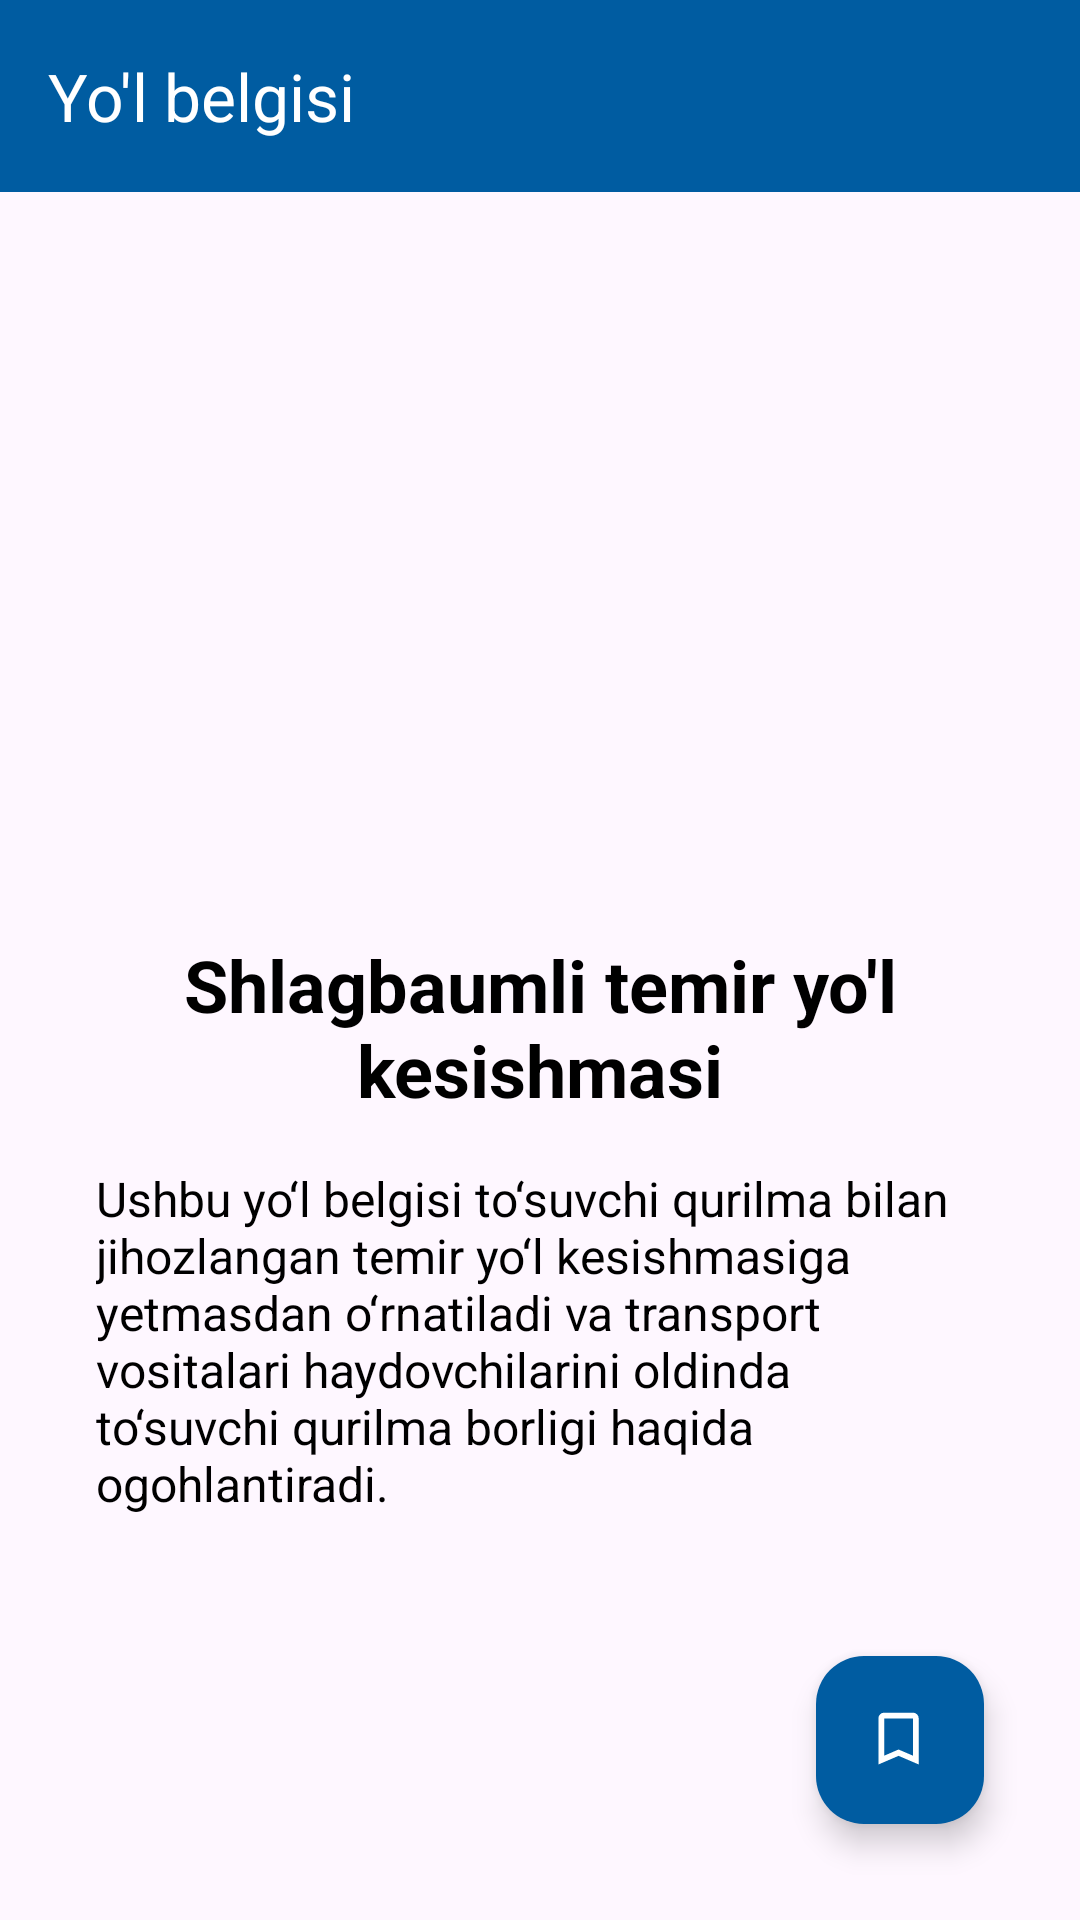

Where icons sit on this 1080 x 1920 app screen, as (x1, y1, x2, y2):
bookmark: (816, 1656, 984, 1824)
